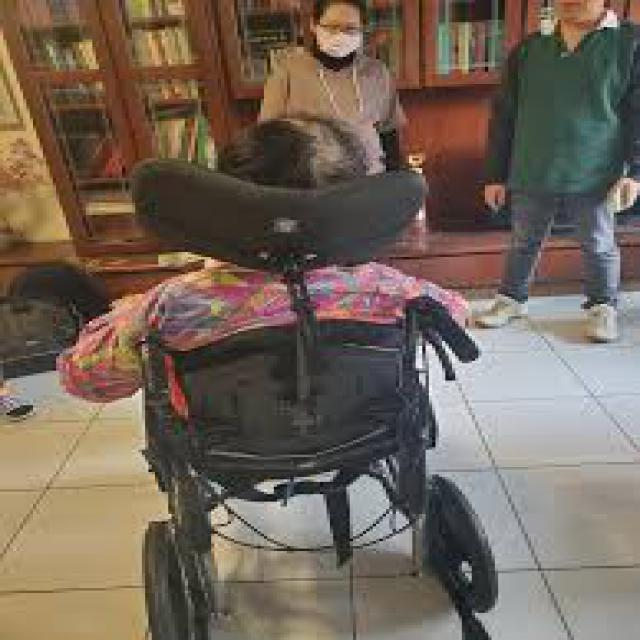wheelchairs: (96, 158, 488, 638)
